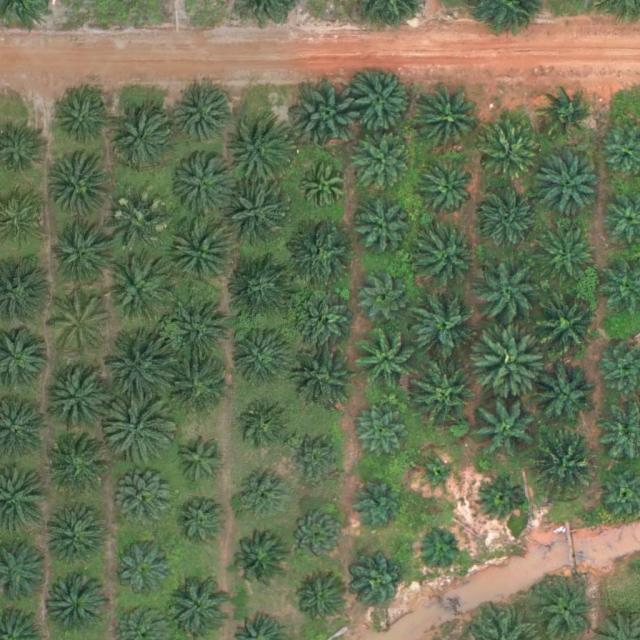Healthy: (412, 223, 483, 294), (49, 362, 119, 433), (105, 394, 175, 465), (105, 336, 175, 407), (226, 114, 296, 185), (229, 252, 299, 323), (296, 83, 366, 154), (284, 220, 355, 290), (412, 291, 482, 362), (476, 394, 546, 465), (479, 326, 549, 397), (478, 260, 548, 331), (224, 182, 294, 252), (411, 355, 481, 425), (534, 148, 604, 218), (534, 289, 604, 359), (532, 427, 602, 497), (49, 154, 112, 217), (47, 294, 110, 357), (44, 438, 107, 501), (47, 577, 110, 640), (170, 299, 233, 362), (169, 356, 232, 419), (230, 326, 293, 389), (294, 342, 357, 405), (350, 133, 413, 196), (480, 118, 543, 181), (49, 225, 111, 288), (47, 509, 109, 572), (110, 106, 172, 169), (109, 260, 171, 323), (173, 83, 235, 146), (171, 157, 233, 220), (174, 226, 236, 289), (349, 66, 411, 129), (356, 328, 418, 391), (414, 89, 476, 152), (538, 219, 600, 282), (534, 366, 596, 429), (115, 539, 177, 601), (481, 189, 543, 251), (172, 495, 227, 551), (293, 574, 348, 629), (290, 508, 345, 563), (290, 432, 345, 487), (238, 404, 293, 459), (234, 469, 289, 524), (58, 93, 113, 148), (119, 477, 174, 532), (297, 161, 352, 216), (355, 195, 410, 250), (360, 271, 415, 326), (355, 408, 410, 463), (353, 558, 408, 613), (542, 86, 597, 141), (170, 438, 224, 493), (232, 532, 286, 587), (298, 297, 352, 352), (352, 474, 406, 529), (423, 166, 477, 221)
Small: (477, 475, 524, 522), (418, 527, 465, 574), (418, 457, 458, 497)
Yellow: (108, 199, 170, 262)
